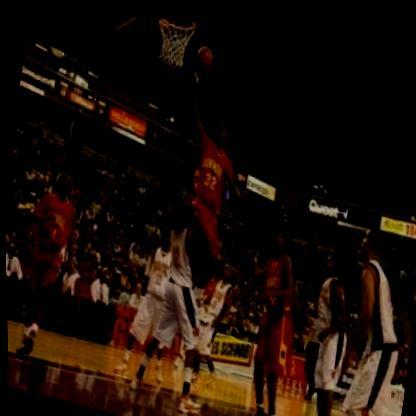basketball: (187, 28, 223, 77)
